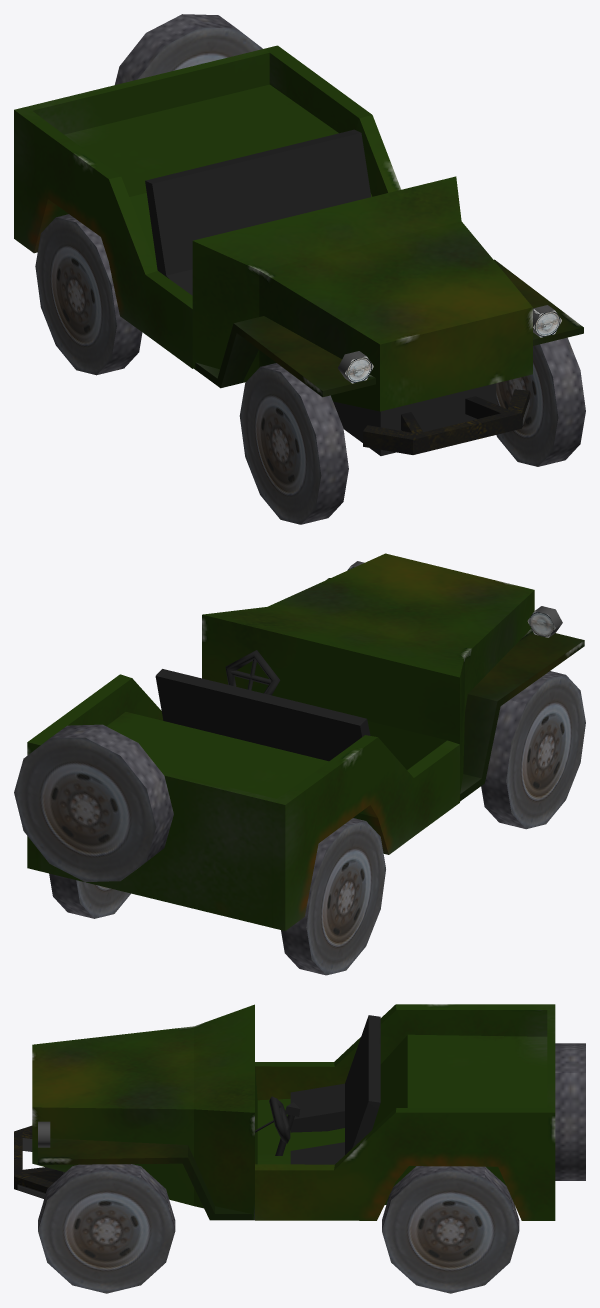
Rendered from Jeep.FBX.
3 views of the same model, one above another, from view 1: azimuth 30°, elevation 25°; view 2: azimuth 150°, elevation 25°; view 3: azimuth 270°, elevation 25° (orthographic). The views are drawn at different scales.
Parts seen in each view (by area): view 1: Jeep; view 2: Jeep; view 3: Jeep.
Part boxes in pixels (bbox=[...]): Jeep: bbox=[14, 14, 585, 524]; Jeep: bbox=[14, 553, 585, 975]; Jeep: bbox=[14, 1004, 585, 1293].
Bounding box in the file's own units: 32.62 × 29.64 × 72.54.
